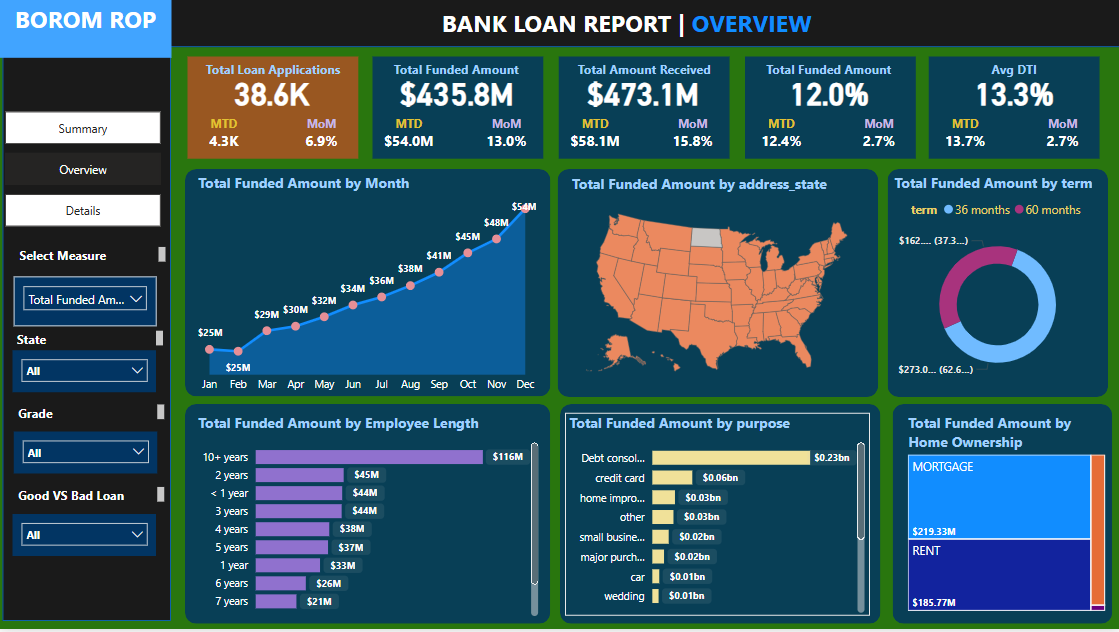

What the dashboard file says about the page in this screenshot:
{"tool":"powerbi","page":{"name":"Overview","canvas":[1280,720],"ordinal":1},"visuals":[{"type":"shape","box":[0,0,1280,55],"z":0},{"type":"shape","box":[2.5,55,192.5,655],"z":1000},{"type":"textbox","box":[499.5,3.6,475.3,47.1],"z":2000},{"type":"shape","box":[425.5,65.3,195.4,117],"z":3000,"group":"g2"},{"type":"shape","box":[1061.9,65.3,195.4,117],"z":3000,"group":"g5"},{"type":"shape","box":[638.4,66,195.4,117],"z":3000,"group":"g3"},{"type":"group","id":"g1","title":"Group 1","box":[212.3,66.4,196.6,117],"z":3000},{"type":"shape","box":[213.7,66.6,195.4,117],"z":3000,"group":"g1"},{"type":"shape","box":[851.3,66.6,195.4,117],"z":3000,"group":"g4"},{"type":"group","id":"g2","title":"Group 1","box":[424.1,65.1,196.6,117],"z":4000},{"type":"card","fields":{"Values":["bank_loan_data.Total Funded Amount"]},"box":[424.1,79.6,195.4,51.9],"z":4000,"group":"g2"},{"type":"card","fields":{"Values":["bank_loan_data.Avg DTI"]},"box":[1061.7,79.6,195.4,51.9],"z":4000,"group":"g5"},{"type":"card","fields":{"Values":["bank_loan_data.Total Amount Received"]},"box":[637,80.3,195.4,51.9],"z":4000,"group":"g3"},{"type":"card","fields":{"Values":["bank_loan_data.Total Loan Application"]},"box":[212.3,80.9,195.4,51.9],"z":4000,"group":"g1"},{"type":"card","fields":{"Values":["bank_loan_data.Avg Interest Rate"]},"box":[849.9,80.9,195.4,51.9],"z":4000,"group":"g4"},{"type":"textbox","box":[425.3,65.1,195.4,32.6],"z":5000,"group":"g2"},{"type":"textbox","box":[1061.7,65.1,195.4,32.6],"z":5000,"group":"g5"},{"type":"textbox","box":[638.2,65.8,195.4,32.6],"z":5000,"group":"g3"},{"type":"textbox","box":[213.5,66.4,195.4,32.6],"z":5000,"group":"g1"},{"type":"textbox","box":[851.1,66.4,195.4,32.6],"z":5000,"group":"g4"},{"type":"shape","box":[211.1,194.4,417.8,260],"z":5000},{"type":"group","id":"g3","title":"Group 1","box":[637,65.8,196.6,117],"z":6000},{"type":"card","title":"MTD","fields":{"Values":["bank_loan_data.MTD Funded Amount"]},"box":[425.3,132.7,83.2,45.8],"z":6000,"group":"g2"},{"type":"card","title":"MTD","fields":{"Values":["bank_loan_data.MTD Avg DTI"]},"box":[1061.7,132.7,83.2,45.8],"z":6000,"group":"g5"},{"type":"card","title":"MTD","fields":{"Values":["bank_loan_data.MTD Total Amount Recieved"]},"box":[638.2,133.4,83.2,45.8],"z":6000,"group":"g3"},{"type":"card","title":"MTD","fields":{"Values":["bank_loan_data.MTD Loan Applications"]},"box":[213.5,134,83.2,45.8],"z":6000,"group":"g1"},{"type":"card","title":"MTD","fields":{"Values":["bank_loan_data.MTD Avg Int Rate"]},"box":[851.1,134,83.2,45.8],"z":6000,"group":"g4"},{"type":"group","id":"g4","title":"Group 1","box":[849.9,66.4,196.6,117],"z":7000},{"type":"card","title":"MoM","fields":{"Values":["bank_loan_data.MOM Total Funded Amount"]},"box":[536.3,132.7,83.2,45.8],"z":7000,"group":"g2"},{"type":"card","title":"MoM","fields":{"Values":["bank_loan_data.MOM Avg DTI"]},"box":[1172.7,132.7,83.2,45.8],"z":7000,"group":"g5"},{"type":"card","title":"MoM","fields":{"Values":["bank_loan_data.MOM Total Amount Recieved"]},"box":[749.2,133.4,83.2,45.8],"z":7000,"group":"g3"},{"type":"card","title":"MoM","fields":{"Values":["bank_loan_data.MOM Loan Application"]},"box":[324.5,134,83.2,45.8],"z":7000,"group":"g1"},{"type":"card","title":"MoM","fields":{"Values":["bank_loan_data.MOM Avg Int Rate"]},"box":[962.1,134,83.2,45.8],"z":7000,"group":"g4"},{"type":"group","id":"g5","title":"Group 1","box":[1061.7,65.1,195.4,117],"z":8000},{"type":"textbox","box":[14.5,374,177.3,27.7],"z":9000},{"type":"slicer","fields":{"Values":["bank_loan_data.address_state"]},"box":[14.5,401.7,164.1,48.3],"z":10000},{"type":"slicer","fields":{"Values":["bank_loan_data.grade"]},"box":[15.7,494.6,164.1,48.3],"z":11000},{"type":"textbox","box":[15.7,458.4,177.3,27.7],"z":12000},{"type":"slicer","fields":{"Values":["bank_loan_data.Good Vs Bad Loan"]},"box":[14.5,588.7,164.1,48.3],"z":13000},{"type":"textbox","box":[15.7,552.5,177.3,27.7],"z":14000},{"type":"areaChart","fields":{"Y":["bank_loan_data.Total Funded Amount"],"Category":["Date Table.Month"]},"box":[221.4,198.6,397.1,260],"z":15000},{"type":"slicer","fields":{"Values":["Select Measure.Select Measure"]},"box":[15.7,317.3,162.9,56.7],"z":16000},{"type":"textbox","box":[16.9,278.7,177.3,27.7],"z":17000},{"type":"shape","box":[637,194.2,366.8,260.6],"z":18000},{"type":"shapeMap","fields":{"Value":["bank_loan_data.Total Funded Amount"],"Category":["bank_loan_data.address_state"]},"box":[647.9,200.3,341.4,249.7],"z":19000},{"type":"shape","box":[1014.6,194.2,252.1,260.6],"z":20000},{"type":"donutChart","fields":{"Y":["bank_loan_data.Total Funded Amount"],"Category":["bank_loan_data.term"]},"box":[1017.5,198.8,246.2,250],"z":21000},{"type":"shape","box":[211.2,462.5,417.5,251.2],"z":22000},{"type":"barChart","fields":{"Y":["bank_loan_data.Total Funded Amount"],"Category":["bank_loan_data.emp_length"]},"box":[221.2,472.5,398.8,237.5],"z":23000},{"type":"shape","box":[640,462.5,366.2,251.2],"z":24000},{"type":"barChart","fields":{"Y":["bank_loan_data.Total Funded Amount"],"Category":["bank_loan_data.purpose"]},"box":[646.2,472.5,347.5,233.8],"z":25000},{"type":"shape","box":[1020,462.5,251.2,251.2],"z":26000},{"type":"treemap","fields":{"Values":["bank_loan_data.Total Funded Amount"],"Group":["bank_loan_data.home_ownership"]},"box":[1032.5,472.5,235,231.2],"z":27000},{"type":"pageNavigator","box":[6.2,128.8,178.8,131.2],"z":28000}]}

Visuals, with their boxes in screenshot pixels (x1, y1, x2, y2), scaled from the page's 1280x720 canvas onto the 1119x632 screenshot:
shape: rect(0, 0, 1118, 48)
shape: rect(2, 48, 170, 623)
textbox: rect(437, 3, 852, 45)
shape: rect(372, 57, 543, 160)
shape: rect(928, 57, 1099, 160)
shape: rect(558, 58, 729, 161)
"Group 1" group: rect(186, 58, 357, 161)
shape: rect(187, 58, 358, 161)
shape: rect(744, 58, 915, 161)
"Group 1" group: rect(371, 57, 543, 160)
card - bank_loan_data.Total Funded Amount: rect(371, 70, 542, 115)
card - bank_loan_data.Avg DTI: rect(928, 70, 1099, 115)
card - bank_loan_data.Total Amount Received: rect(557, 70, 728, 116)
card - bank_loan_data.Total Loan Application: rect(186, 71, 356, 117)
card - bank_loan_data.Avg Interest Rate: rect(743, 71, 914, 117)
textbox: rect(372, 57, 543, 86)
textbox: rect(928, 57, 1099, 86)
textbox: rect(558, 58, 729, 86)
textbox: rect(187, 58, 357, 87)
textbox: rect(744, 58, 915, 87)
shape: rect(185, 171, 550, 399)
"Group 1" group: rect(557, 58, 729, 160)
"MTD" card: rect(372, 116, 445, 157)
"MTD" card: rect(928, 116, 1001, 157)
"MTD" card: rect(558, 117, 631, 157)
"MTD" card: rect(187, 118, 259, 158)
"MTD" card: rect(744, 118, 817, 158)
"Group 1" group: rect(743, 58, 915, 161)
"MoM" card: rect(469, 116, 542, 157)
"MoM" card: rect(1025, 116, 1098, 157)
"MoM" card: rect(655, 117, 728, 157)
"MoM" card: rect(284, 118, 356, 158)
"MoM" card: rect(841, 118, 914, 158)
"Group 1" group: rect(928, 57, 1099, 160)
textbox: rect(13, 328, 168, 353)
slicer - bank_loan_data.address_state: rect(13, 353, 156, 395)
slicer - bank_loan_data.grade: rect(14, 434, 157, 477)
textbox: rect(14, 402, 169, 427)
slicer - bank_loan_data.Good Vs Bad Loan: rect(13, 517, 156, 559)
textbox: rect(14, 485, 169, 509)
areaChart - bank_loan_data.Total Funded Amount x Date Table.Month: rect(194, 174, 541, 403)
slicer - Select Measure.Select Measure: rect(14, 279, 156, 328)
textbox: rect(15, 245, 170, 269)
shape: rect(557, 170, 878, 399)
shapeMap - bank_loan_data.Total Funded Amount x bank_loan_data.address_state: rect(566, 176, 865, 395)
shape: rect(887, 170, 1107, 399)
donutChart - bank_loan_data.Total Funded Amount x bank_loan_data.term: rect(890, 175, 1105, 394)
shape: rect(185, 406, 550, 626)
barChart - bank_loan_data.Total Funded Amount x bank_loan_data.emp_length: rect(193, 415, 542, 623)
shape: rect(560, 406, 880, 626)
barChart - bank_loan_data.Total Funded Amount x bank_loan_data.purpose: rect(565, 415, 869, 620)
shape: rect(892, 406, 1111, 626)
treemap - bank_loan_data.Total Funded Amount x bank_loan_data.home_ownership: rect(903, 415, 1108, 618)
pageNavigator: rect(5, 113, 162, 228)
